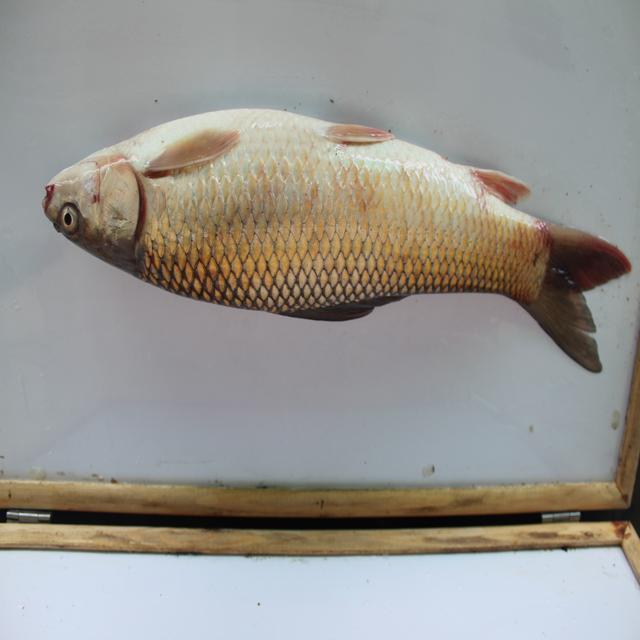Mori: (36, 91, 639, 396)
